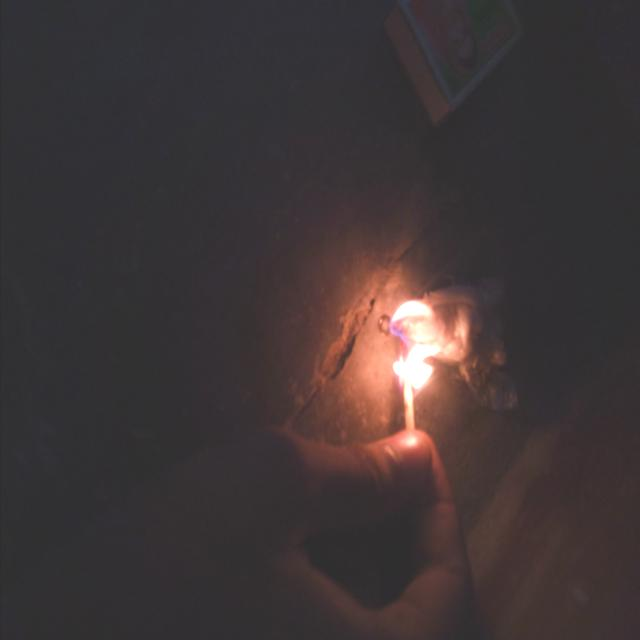firerotation: (384, 294, 444, 394)
